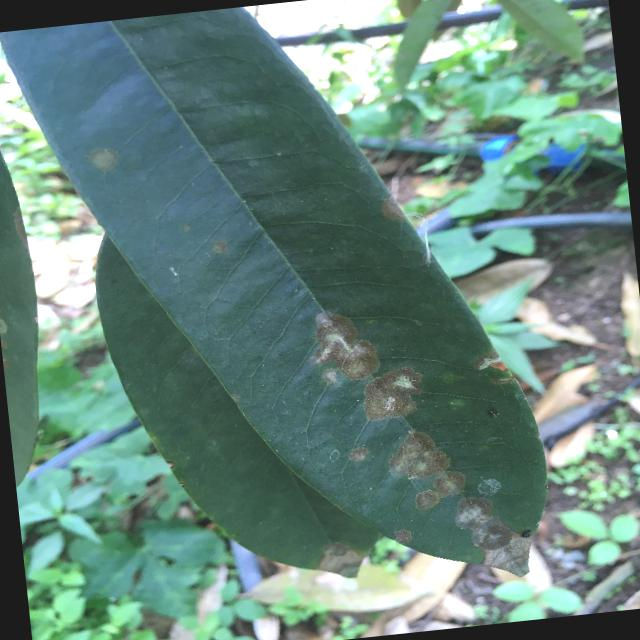Algal Leaf Spot: (0, 0, 571, 632)
